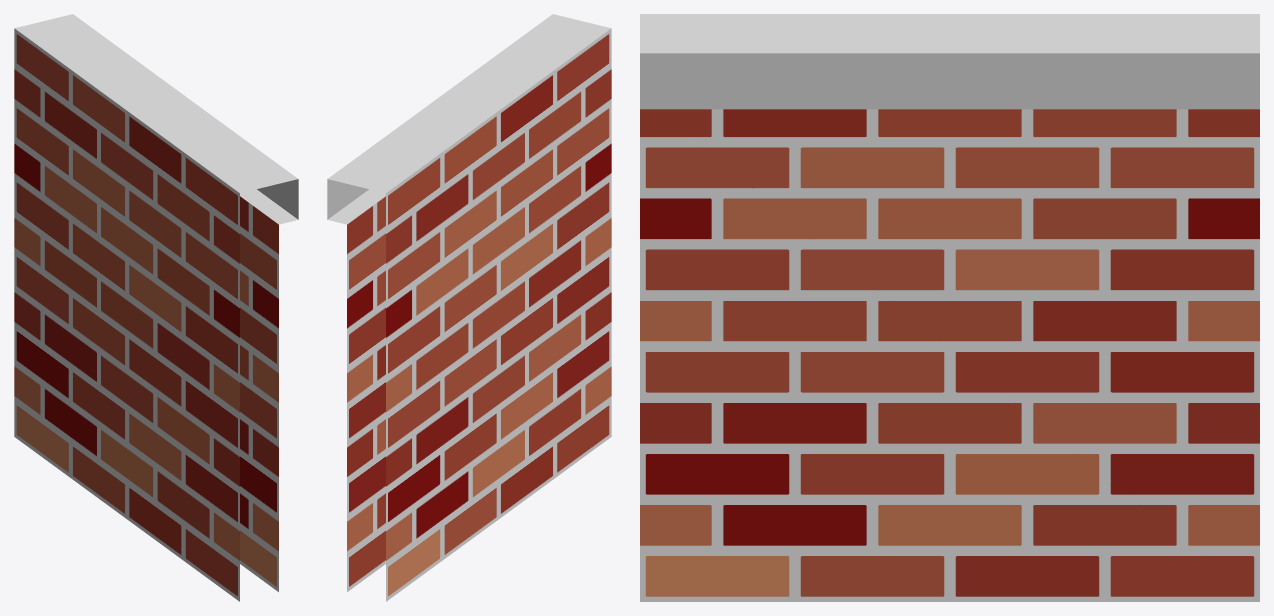
Rendered from Wall.fbx.
3 views of the same model, side by side, from view 1: azimuth 30°, elevation 25°; view 2: azimuth 150°, elevation 25°; view 3: azimuth 270°, elevation 25° (orthographic). The views are drawn at different scales.
Parts seen in each view (by area): view 1: Wall; view 2: Wall; view 3: Wall.
Boxes of the visible parts, bbox=[...] form: Wall: bbox=[14, 14, 298, 601]; Wall: bbox=[327, 14, 611, 601]; Wall: bbox=[640, 14, 1259, 601].
Bounding box in the file's own units: 30 × 200 × 200.
